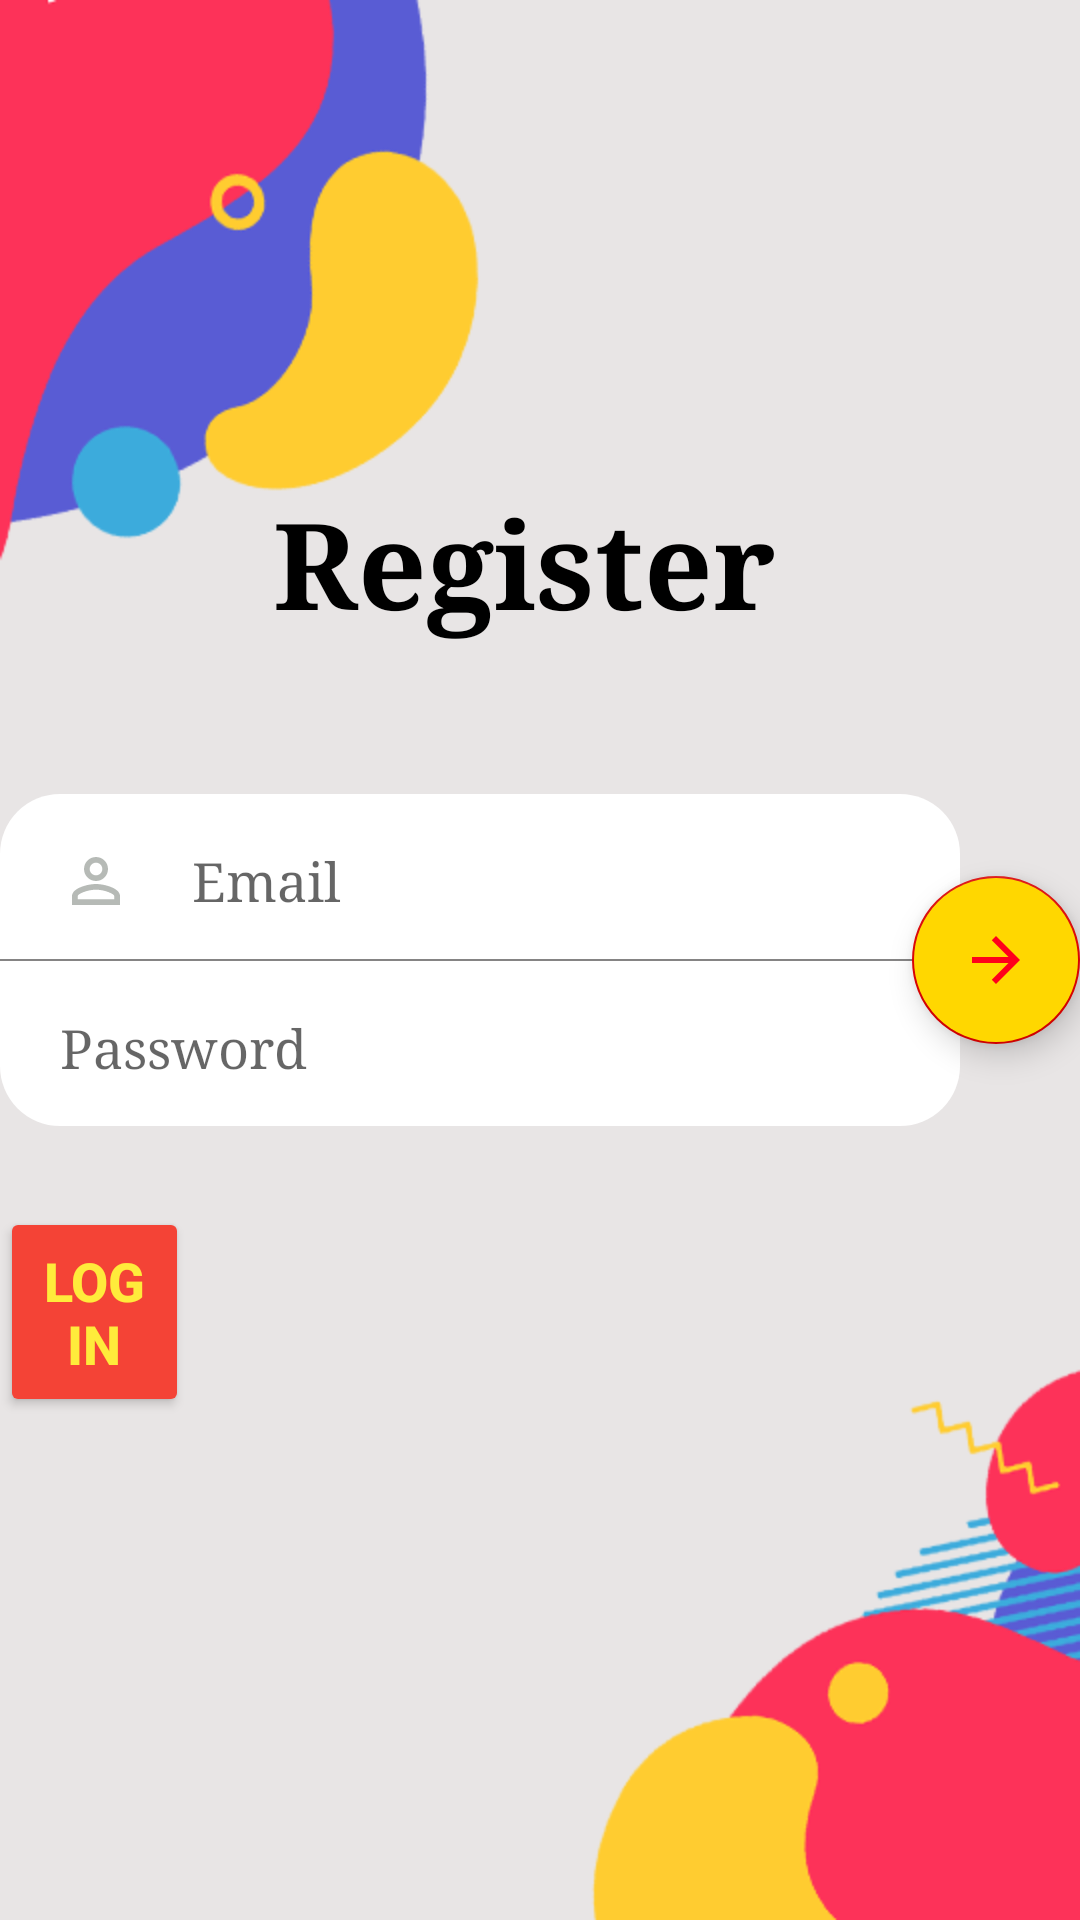

Point at icon controls on the screen. Image size 1080 × 1920, points as [x,y].
arrow forward: [996,960]
